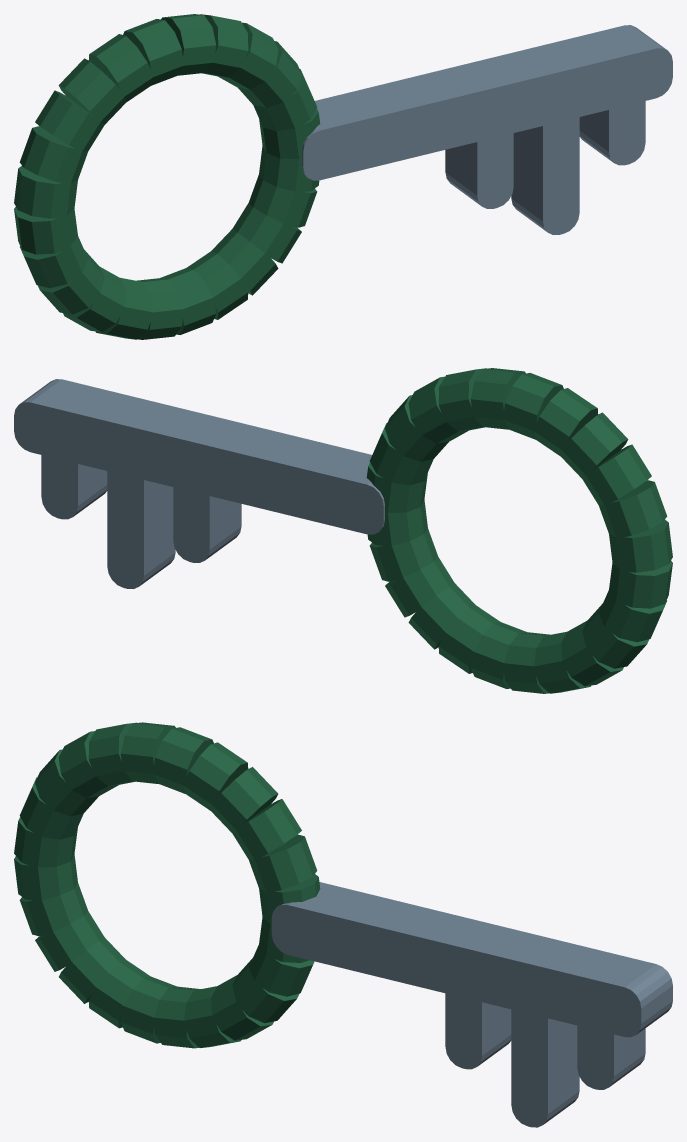
Rendered from key.glb.
3 renders of one model, top to bottom at view 1: azimuth 30°, elevation 25°; view 2: azimuth 150°, elevation 25°; view 3: azimuth 330°, elevation 25°, orthographic.
Parts seen in each view (by area): view 1: shaft, tooth 1, tooth 0, tooth 2, key ring10, key ring7, key ring8, key ring9, key ring11, key ring6, key ring12, key ring5 (+16 smaller); view 2: shaft, tooth 1, tooth 0, tooth 2, key ring10, key ring7, key ring8, key ring9, key ring11, key ring6, key ring12, key ring5 (+16 smaller); view 3: shaft, tooth 1, tooth 0, tooth 2, key ring1, key ring4, key ring3, key ring2, key ring5, key ring6, key ring14, key ring15 (+16 smaller).
Boxes of the visible parts, x1,y1,x2,y2 form: shaft: (302,25,672,180); tooth 1: (511,103,579,234); tooth 0: (445,119,513,208); tooth 2: (579,87,645,165); key ring10: (19,126,88,184); key ring7: (88,34,153,102); key ring8: (58,58,125,124); key ring9: (35,90,104,151); key ring11: (14,166,77,218); key ring6: (123,19,183,85); key ring12: (14,207,77,254); key ring5: (161,14,216,75); shaft: (14,379,384,534); tooth 1: (107,457,175,588); tooth 0: (173,473,241,562); tooth 2: (41,442,107,519); key ring10: (598,480,667,538); key ring7: (533,388,598,456); key ring8: (561,412,628,478); key ring9: (582,444,651,505); key ring11: (609,520,672,572); key ring6: (503,373,563,439); key ring12: (609,561,672,608); key ring5: (470,368,525,429); shaft: (271,882,672,1037); tooth 1: (511,996,579,1127); tooth 0: (445,981,511,1069); tooth 2: (577,1012,645,1089); key ring1: (249,834,317,891); key ring4: (183,742,248,810); key ring3: (211,767,278,833); key ring2: (232,799,301,859); key ring5: (154,727,213,793); key ring6: (120,722,175,784); key ring14: (35,911,104,971); key ring15: (59,937,125,1003).
Bounding box in the file's own units: 1.75 × 0.8228 × 0.15.
